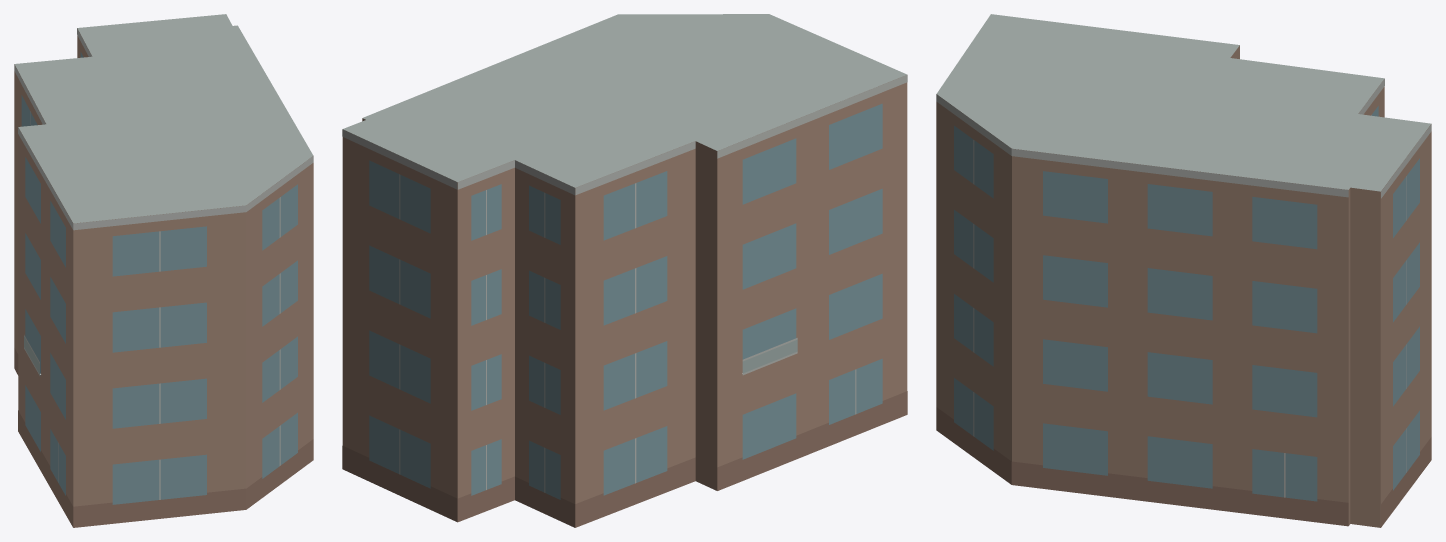
Rendered from survey-upis-32875705.glb.
3 renders of one model, left to right at view 1: azimuth 30°, elevation 25°; view 2: azimuth 150°, elevation 25°; view 3: azimuth 270°, elevation 25°, orthographic. The views are drawn at different scales.
Parts seen in each view (by area): view 1: survey-upis-32875705.tmp; view 2: survey-upis-32875705.tmp; view 3: survey-upis-32875705.tmp.
Boxes of the visible parts, left/top/right/bottom form: survey-upis-32875705.tmp: left=14, top=14, right=313, bottom=527; survey-upis-32875705.tmp: left=342, top=14, right=907, bottom=527; survey-upis-32875705.tmp: left=936, top=14, right=1431, bottom=527.
Bounding box in the file's own units: 12.35 × 10.9 × 14.55.
